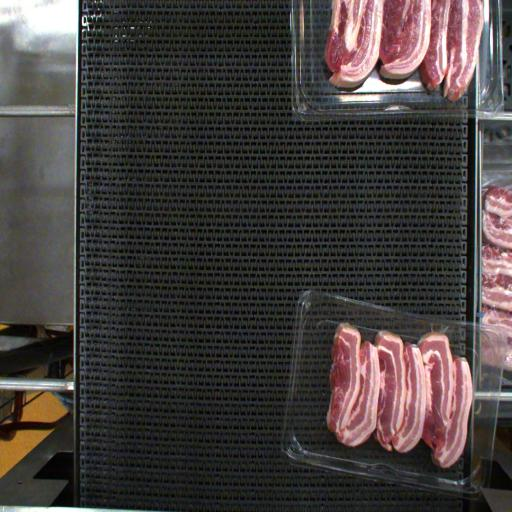packaging-error: (426, 310, 453, 334)
